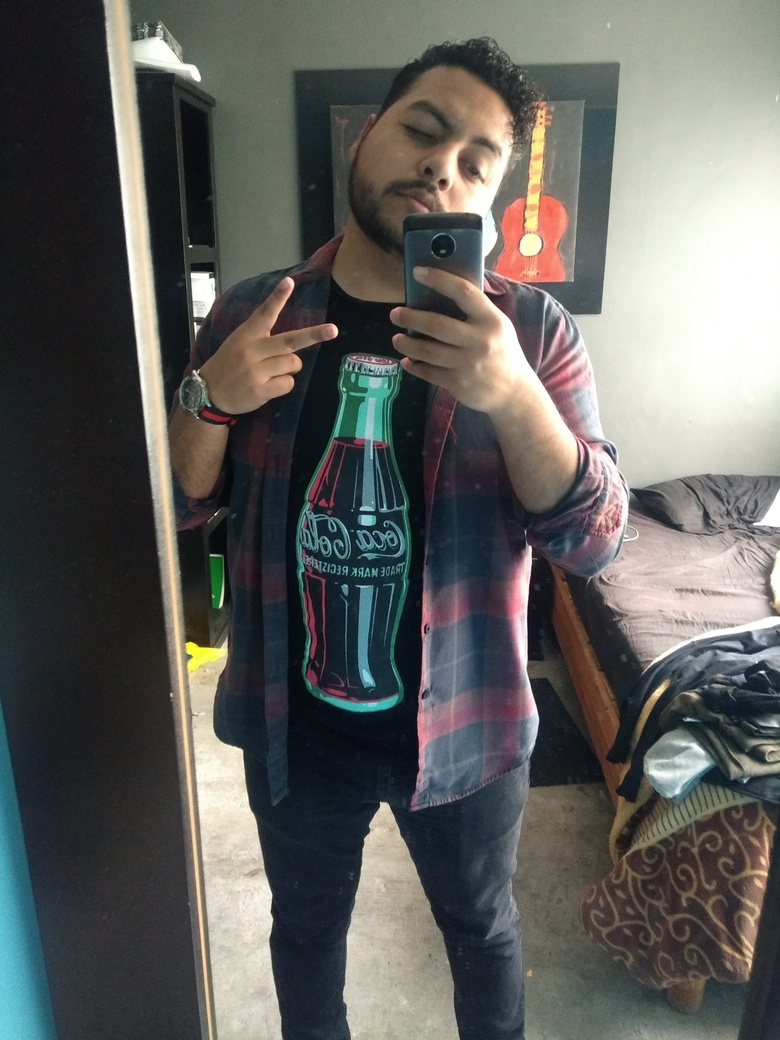Yoshi: (309, 20, 573, 301)
